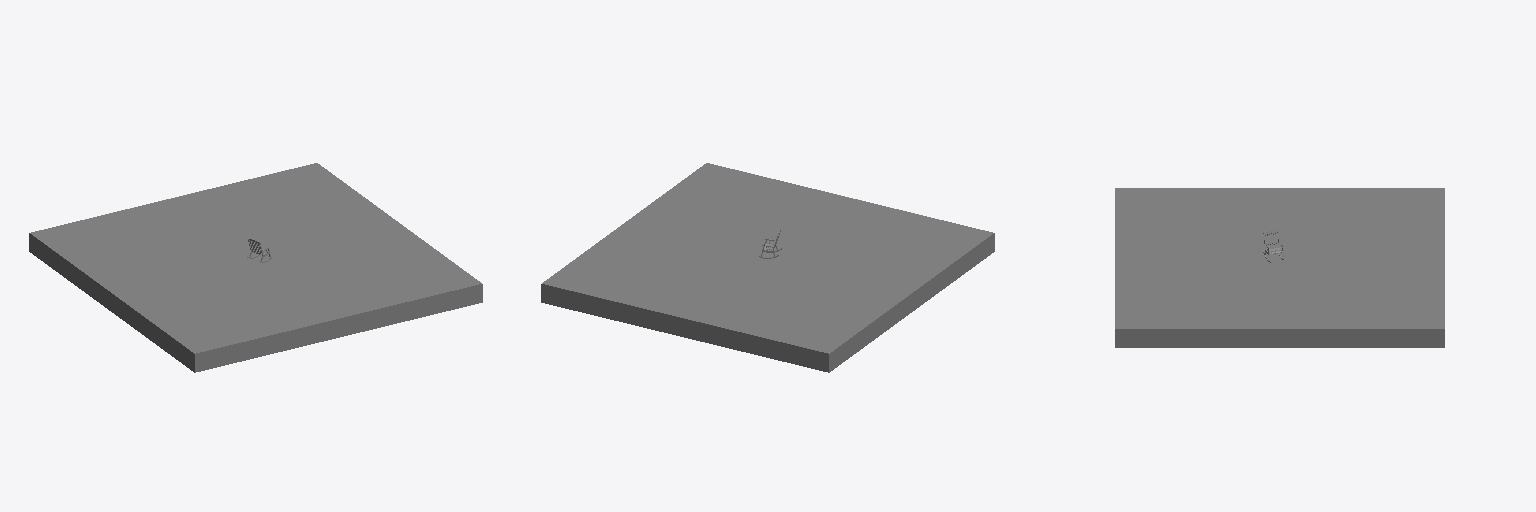
Rendered from chair.obj.
The picture shows the model from 3 angles: view 1: azimuth 30°, elevation 25°; view 2: azimuth 150°, elevation 25°; view 3: azimuth 270°, elevation 25°; orthographic projection.
Parts seen in each view (by area): view 1: Box001.001; view 2: Box001.001; view 3: Box001.001.
Part boxes in pixels (bbox=[...]): Box001.001: bbox=[29, 163, 482, 372]; Box001.001: bbox=[541, 163, 994, 372]; Box001.001: bbox=[1115, 188, 1444, 347].
Bounding box in the file's own units: 51.89 × 7.35 × 51.61.